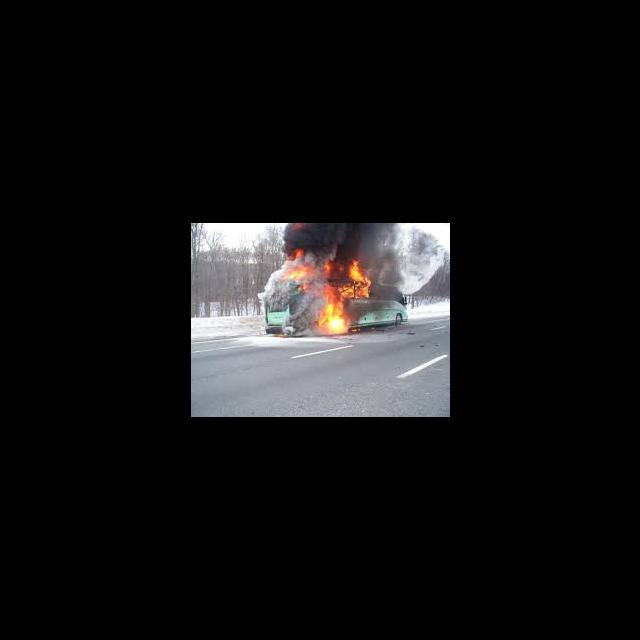Fire: (338, 259, 374, 300), (316, 303, 348, 336), (291, 264, 317, 279), (322, 284, 337, 302), (288, 248, 303, 262), (322, 257, 333, 273), (289, 223, 306, 229)
Smoke: (375, 230, 442, 299), (337, 225, 372, 258), (286, 295, 314, 334), (262, 272, 287, 313), (306, 224, 334, 256), (283, 232, 306, 248)
